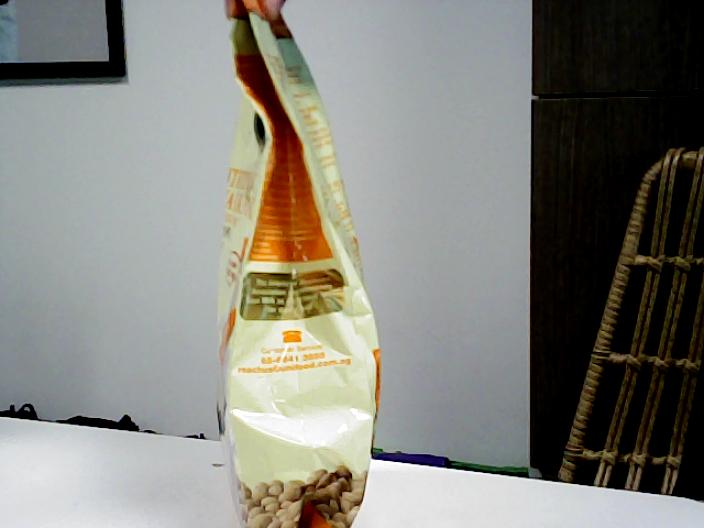Adult_Milk_500-599g_NonHalal_Healthy: (213, 26, 382, 528)
